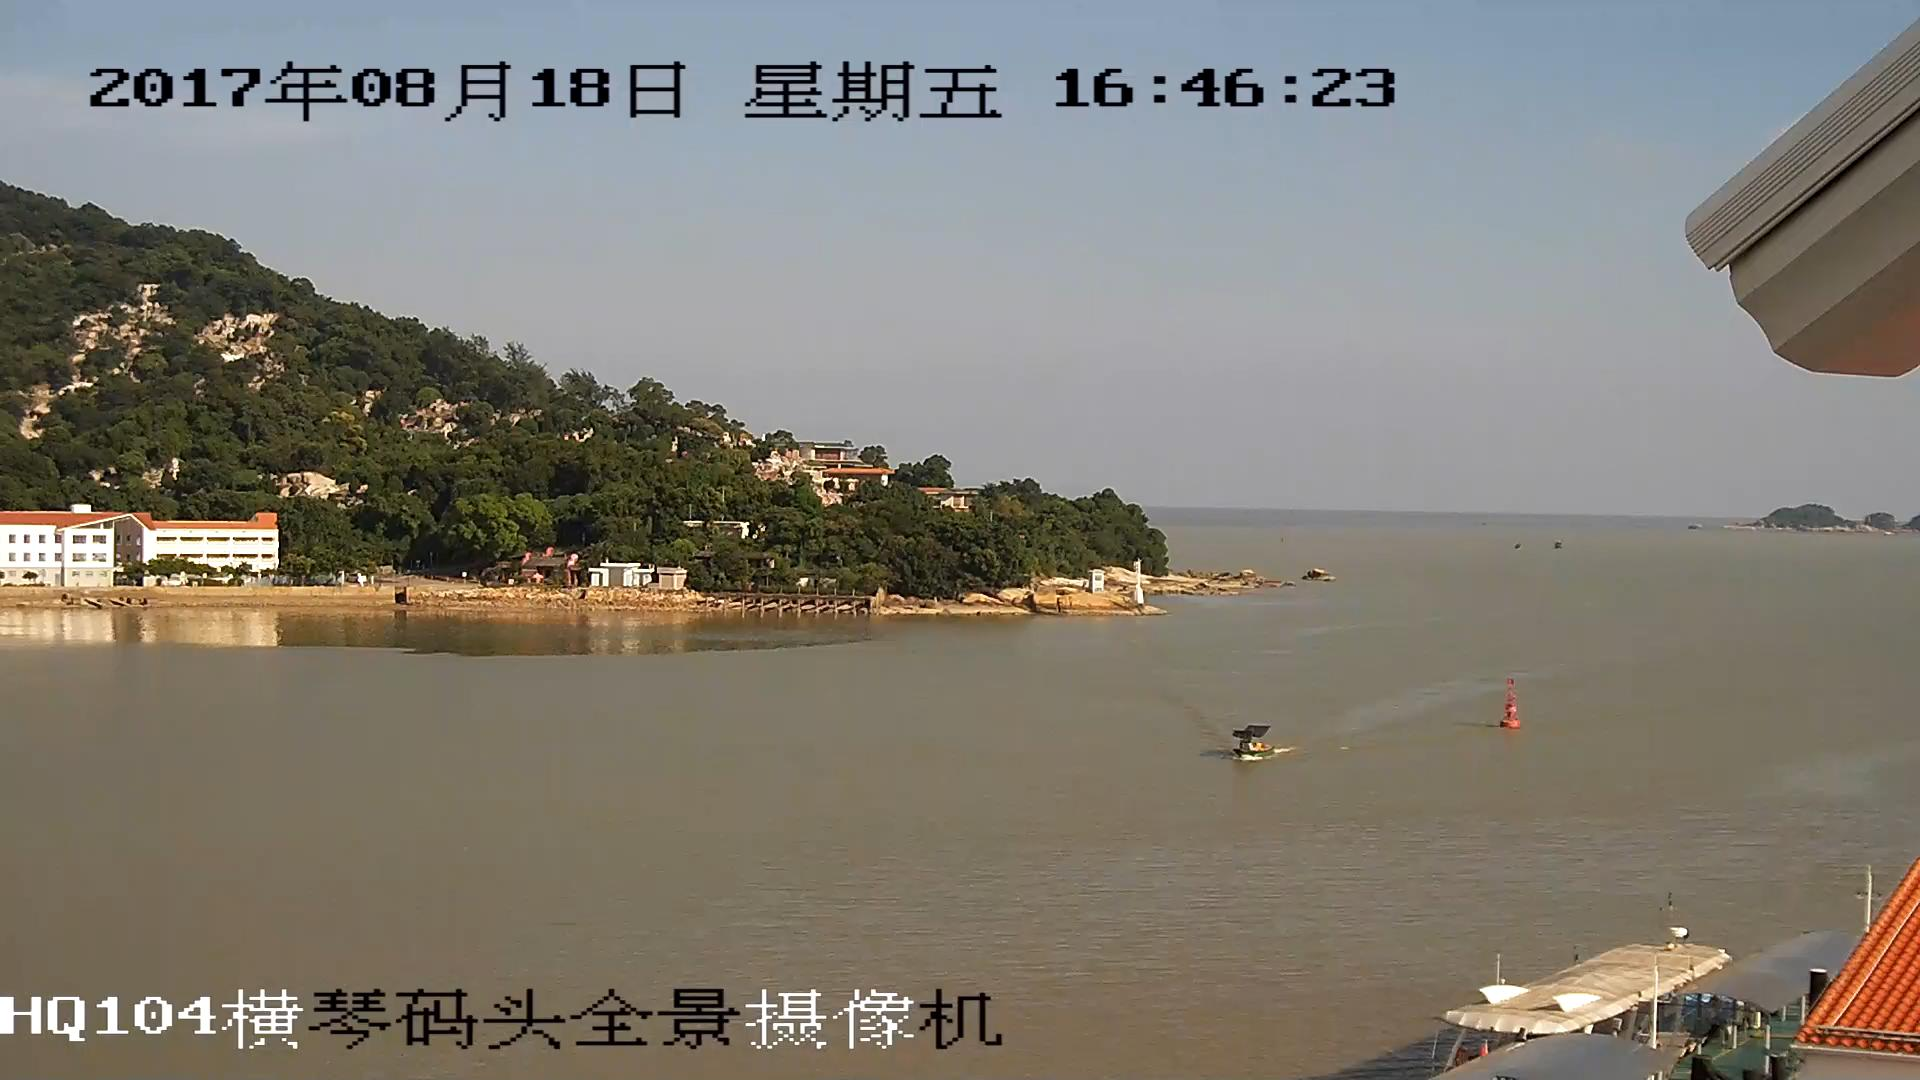fishing boat: (1227, 729, 1275, 756)
